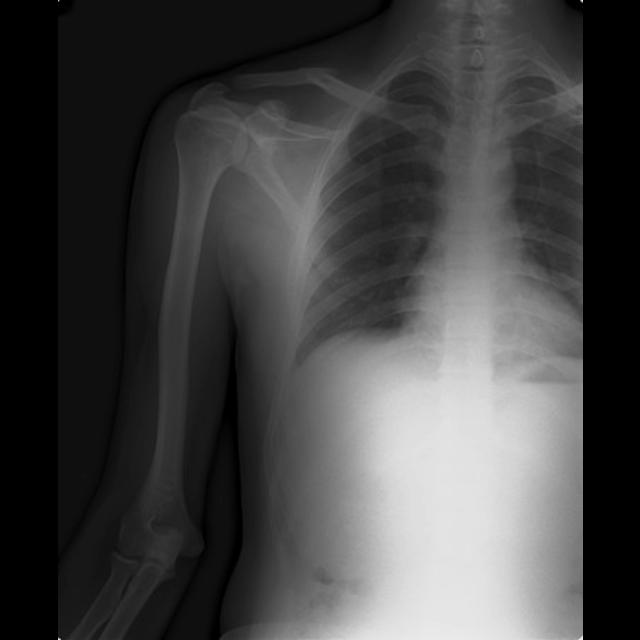fractured: (285, 67, 340, 94)
